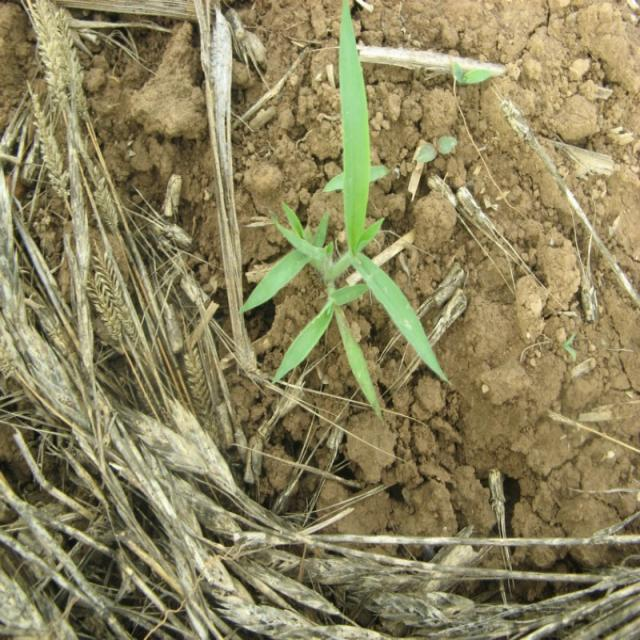bg: (246, 4, 445, 412)
